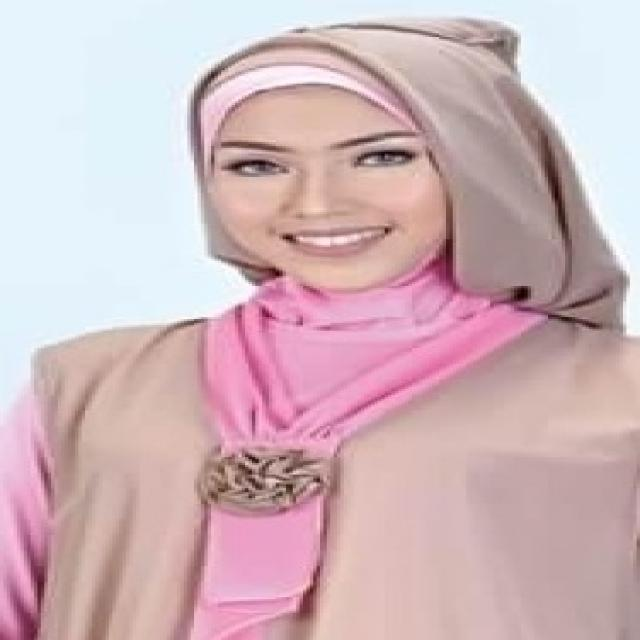head: (184, 14, 492, 293)
